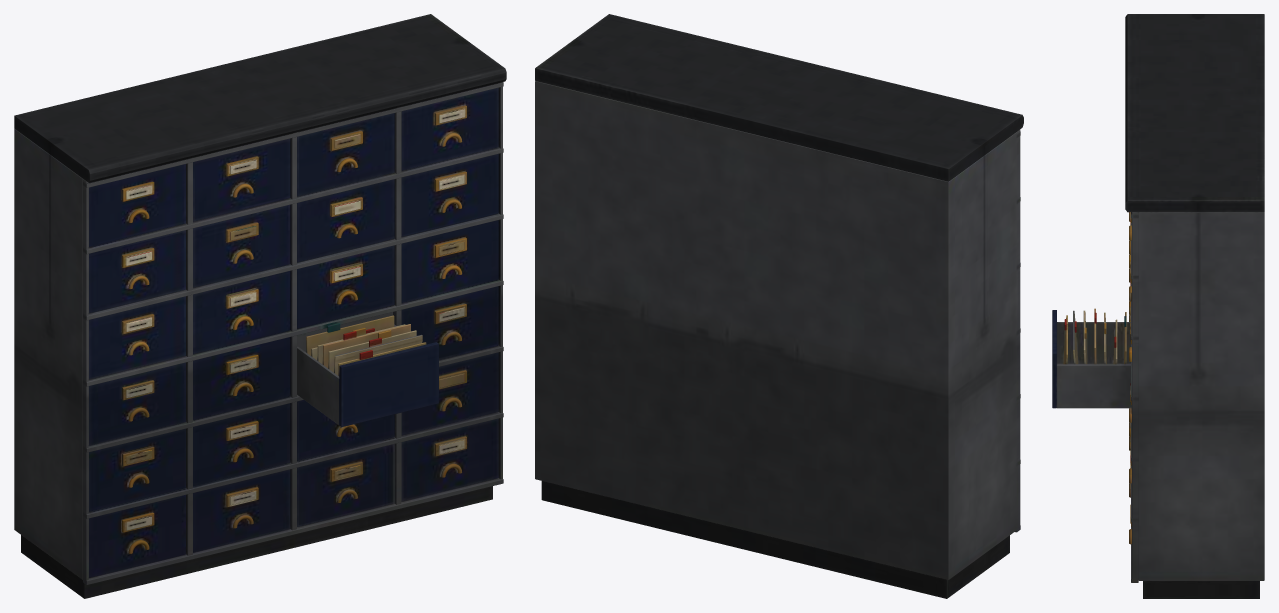
Rendered from filing_cabinets.glb.
The picture shows the model from 3 angles, left to right: view 1: azimuth 30°, elevation 25°; view 2: azimuth 150°, elevation 25°; view 3: azimuth 270°, elevation 25°; orthographic projection. The views are drawn at different scales.
Parts seen in each view (by area): view 1: filing_cabinets; view 2: filing_cabinets; view 3: filing_cabinets.
Part boxes in pixels (x1,y1,x2,y2): filing_cabinets: (14,14,506,598); filing_cabinets: (535,14,1023,598); filing_cabinets: (1052,14,1264,598).
Bounding box in the file's own units: 2 × 2 × 0.96.
Materials: 2 (2 with a texture image).
